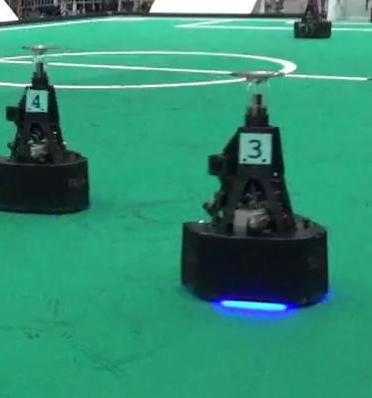robot: (177, 65, 334, 319), (1, 42, 94, 216)
